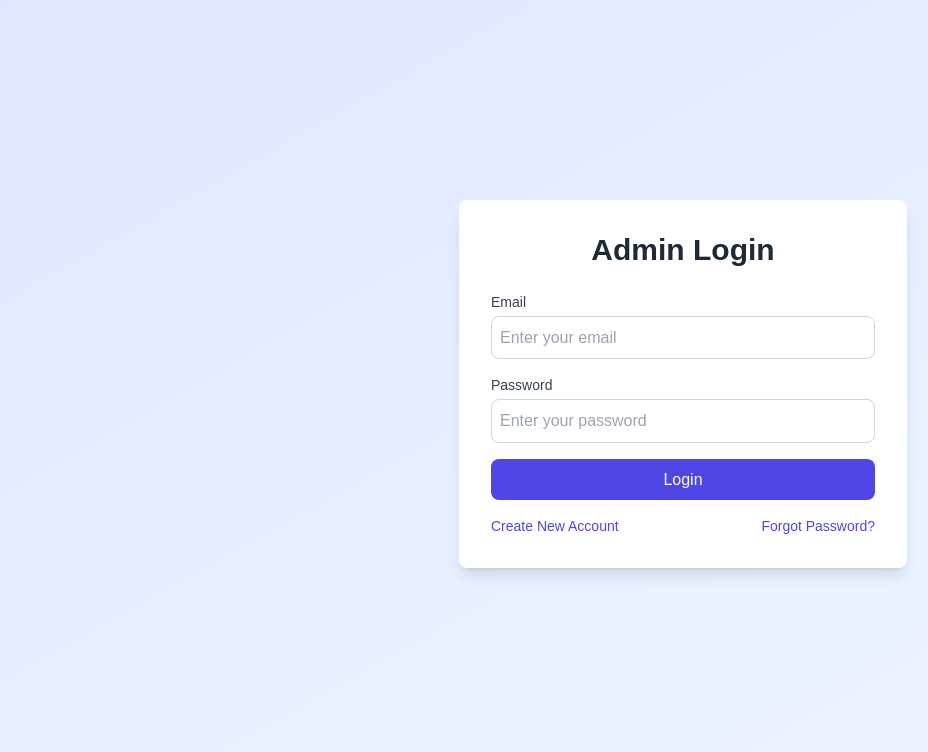
Test: AdminAuth › should show an error if passwords do not match
The width and height of the screenshot is (928, 752).
Switch to register mode
Click the button "Create New Account" at (555, 526), box 491,516 -> 619,536
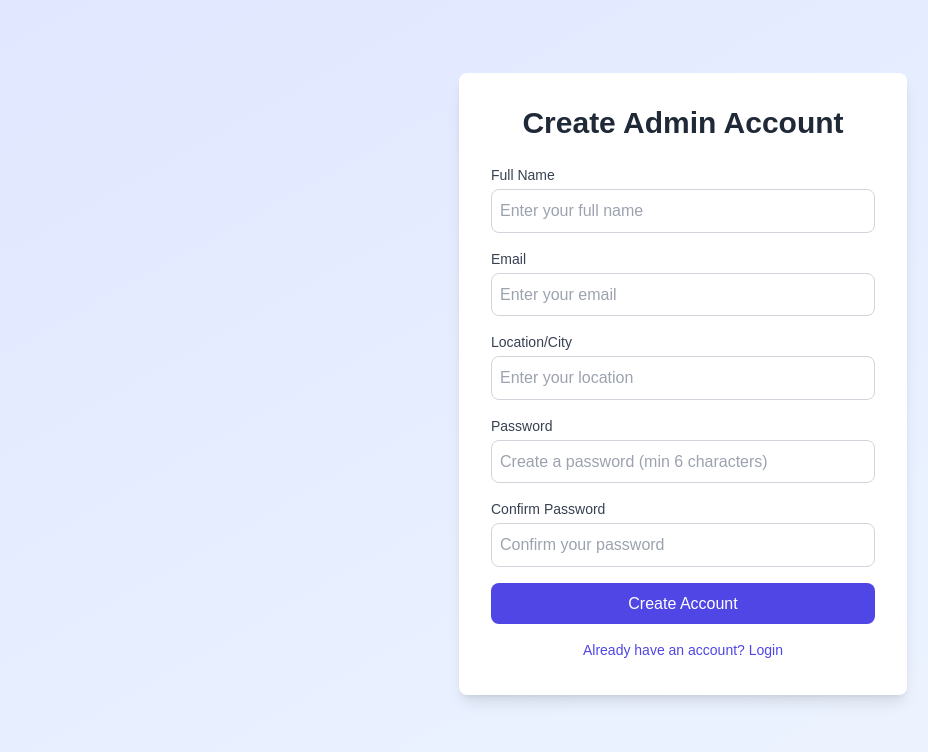
Fill out the registration form with mismatched passwords
Type "Test User" into the field with placeholder "Enter your full name" at (683, 211), box 491,189 -> 875,232
Type "test@example.com" into the field with placeholder "Enter your email" at (683, 294), box 491,272 -> 875,316
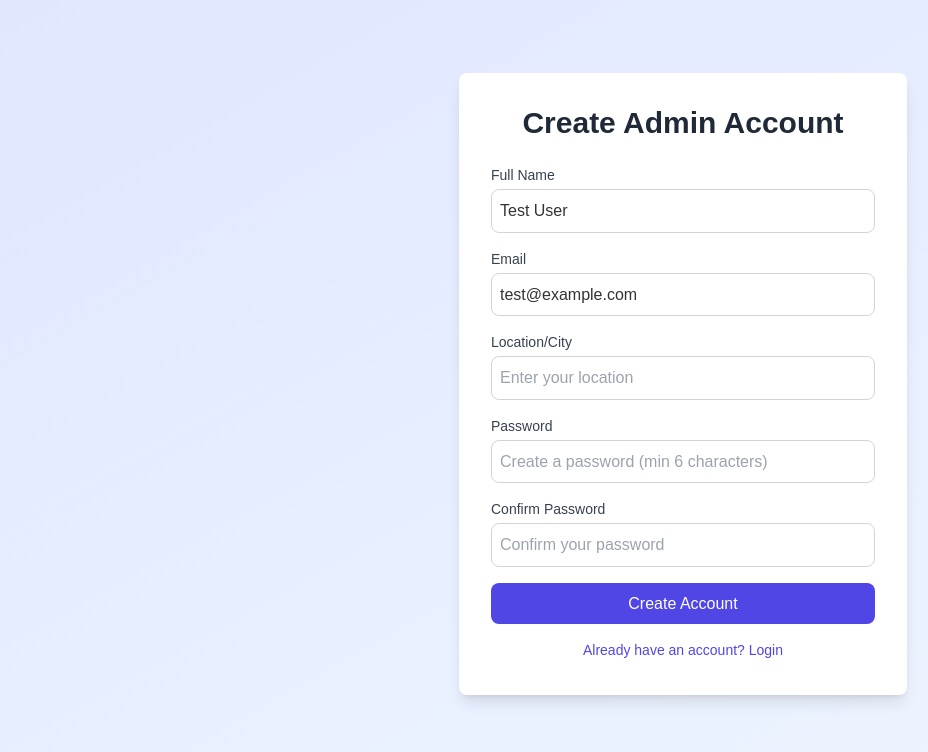
Type "Test Location" into the field with placeholder "Enter your location" at (683, 378), box 491,356 -> 875,400
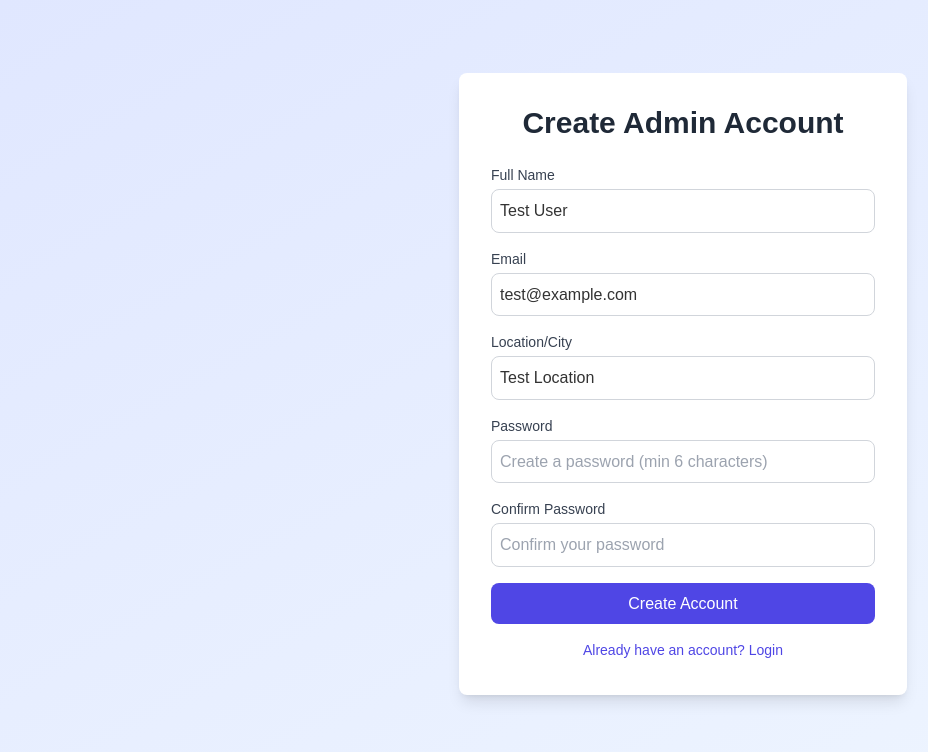
Type "password123" into the password field with placeholder "Create a password (min 6 characters)" at (683, 462), box 491,440 -> 875,483
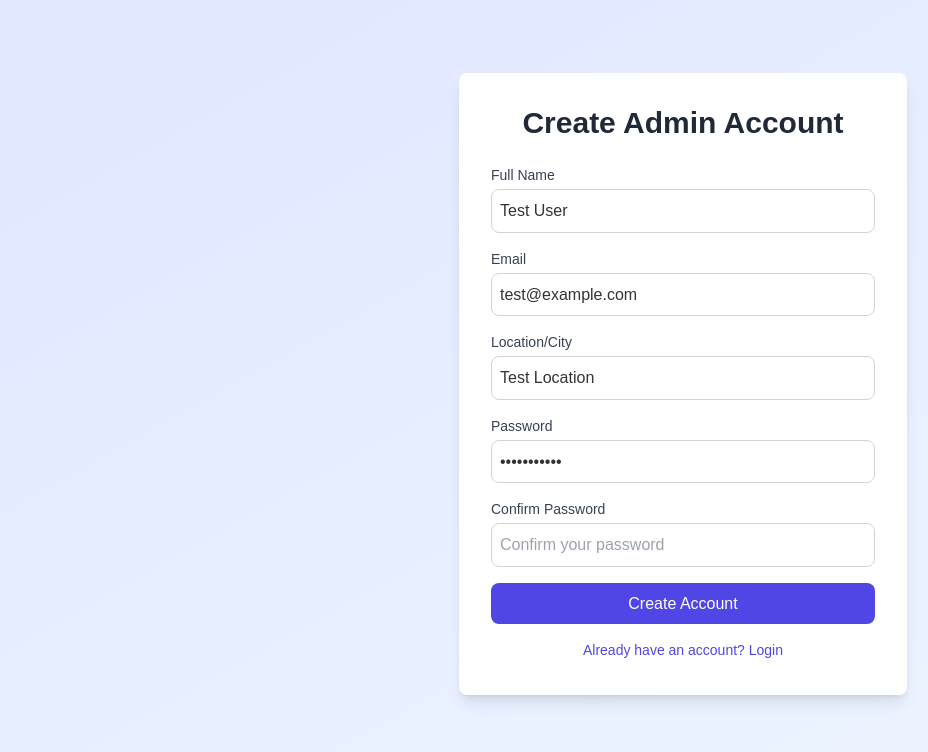
Type "password456" into the password field with placeholder "Confirm your password" at (683, 545), box 491,523 -> 875,567
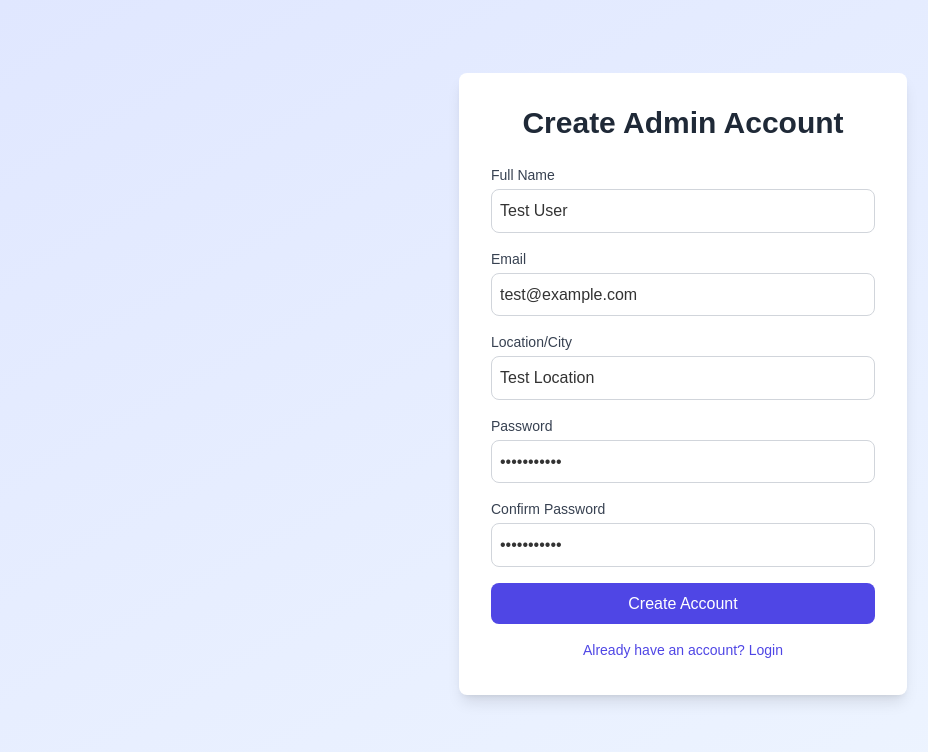
Submit the form
Click the button "Create Account" at (683, 604), box 491,583 -> 875,624
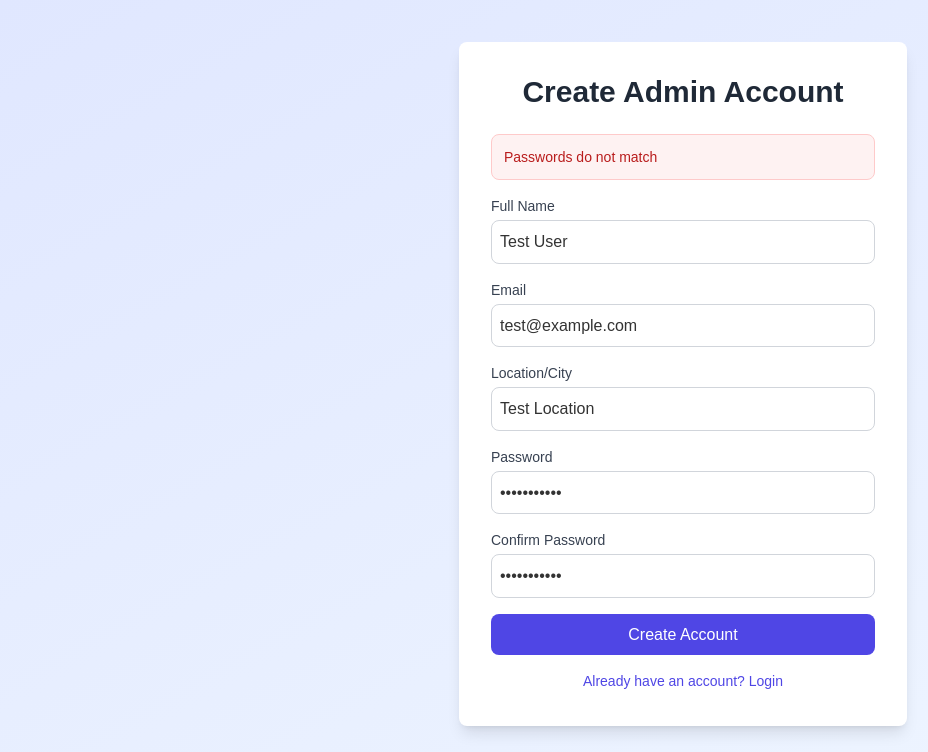
Check: the text "Passwords do not match" is shown, box 491,134 -> 875,180
